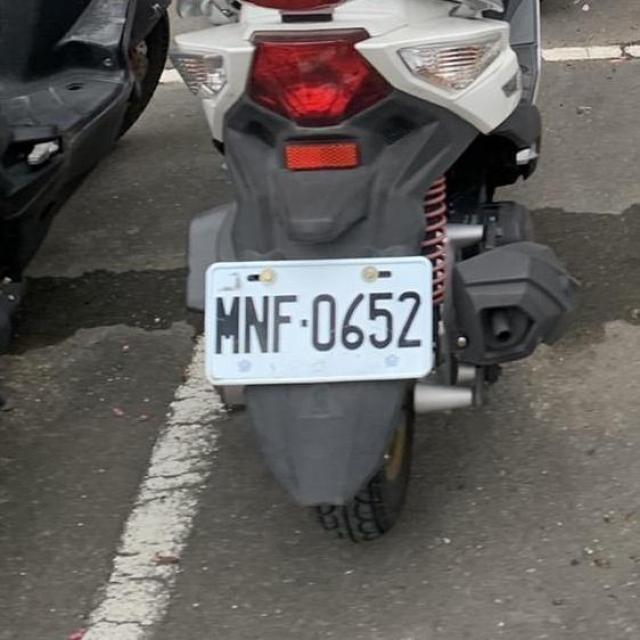W: (200, 251, 438, 387)
